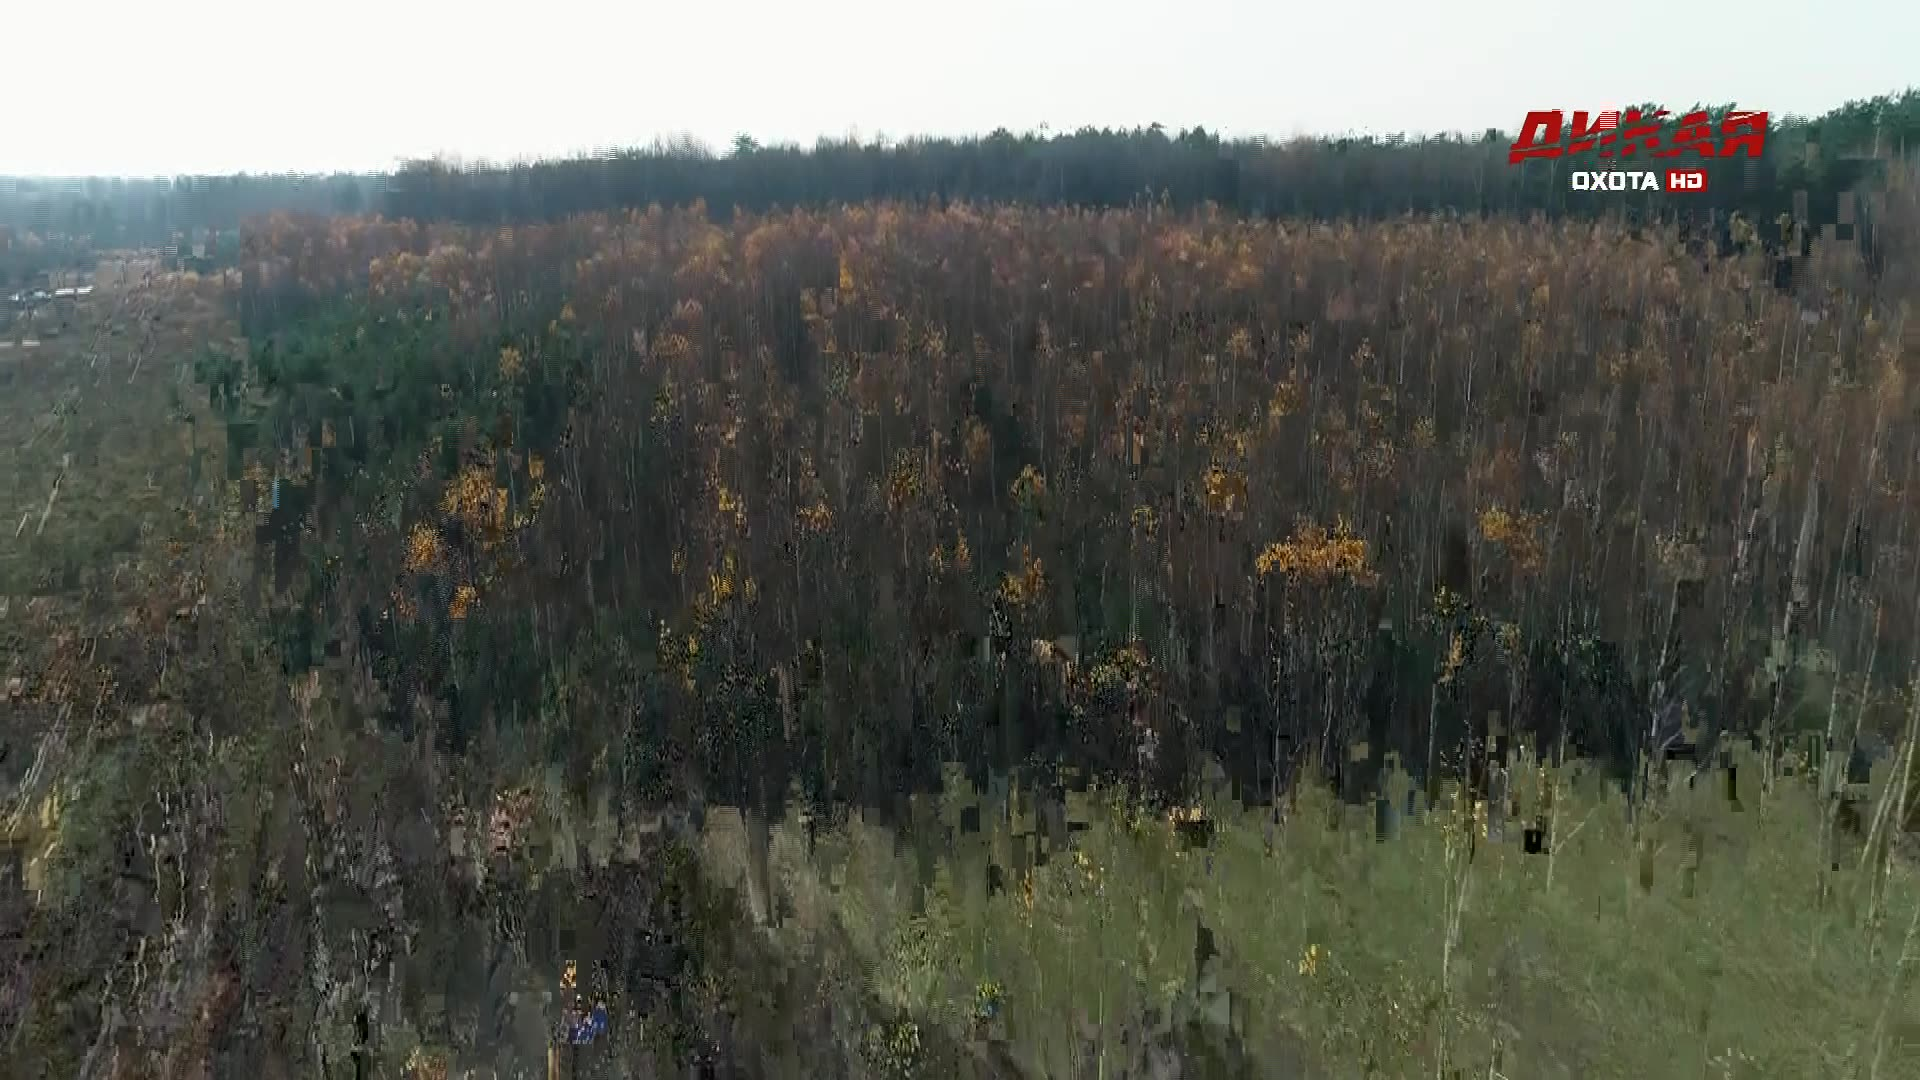Dikaya_Ohota_HD: (1506, 109, 1770, 196)
